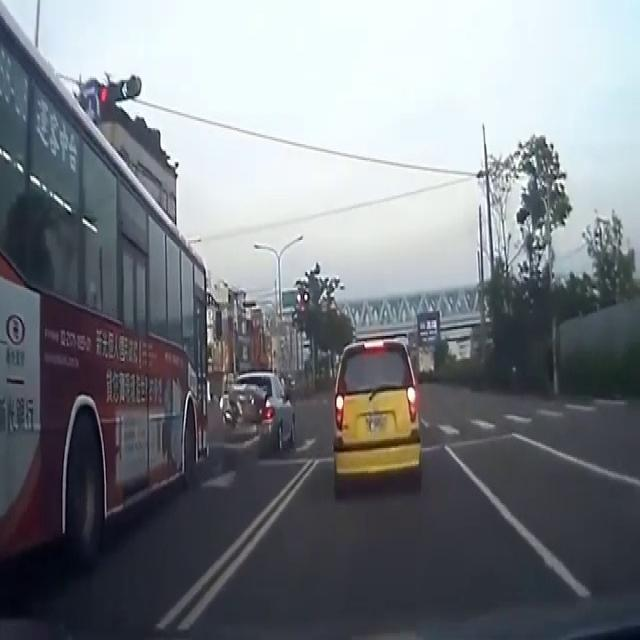moderate: (0, 0, 298, 597)
